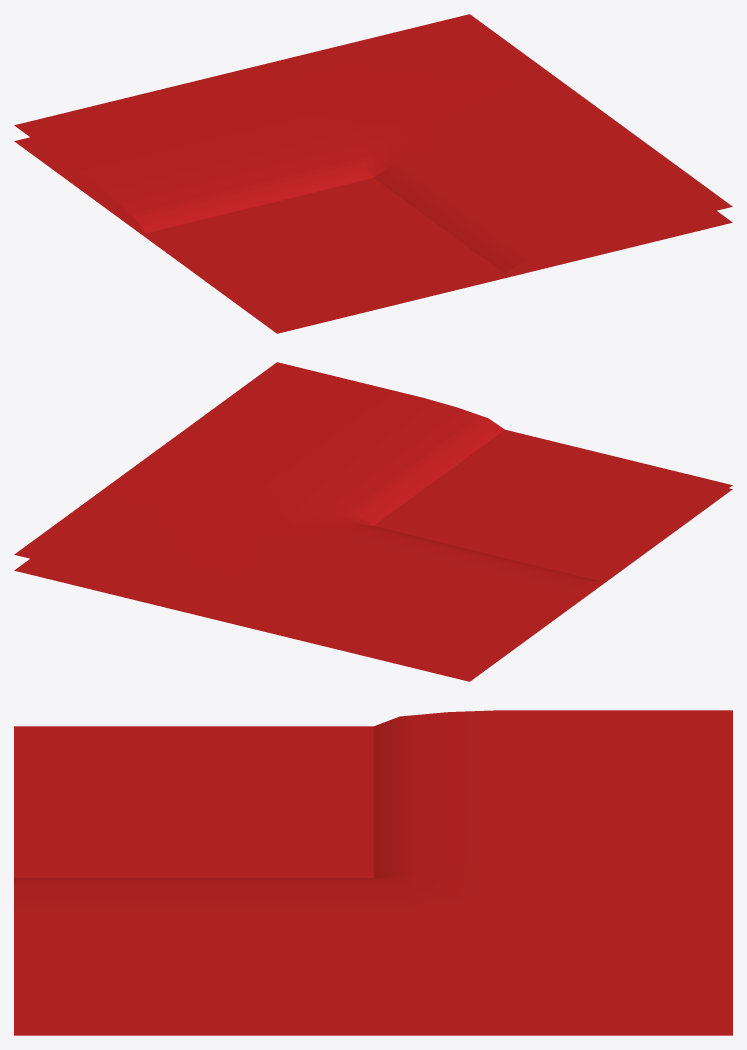
The model's file is sidewalk corn in collider.FBX.
3 renders of one model, top to bottom at view 1: azimuth 30°, elevation 25°; view 2: azimuth 150°, elevation 25°; view 3: azimuth 270°, elevation 25°, orthographic. The views are drawn at different scales.
Visible parts, largest first — view 1: Object026; view 2: Object026; view 3: Object026.
Boxes of the visible parts, x1,y1,x2,y2 form: Object026: [14, 14, 732, 333]; Object026: [14, 362, 732, 681]; Object026: [14, 710, 732, 1035].
Bounding box in the file's own units: 3 × 0.1 × 3.
